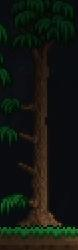tree: (0, 1, 78, 250)
